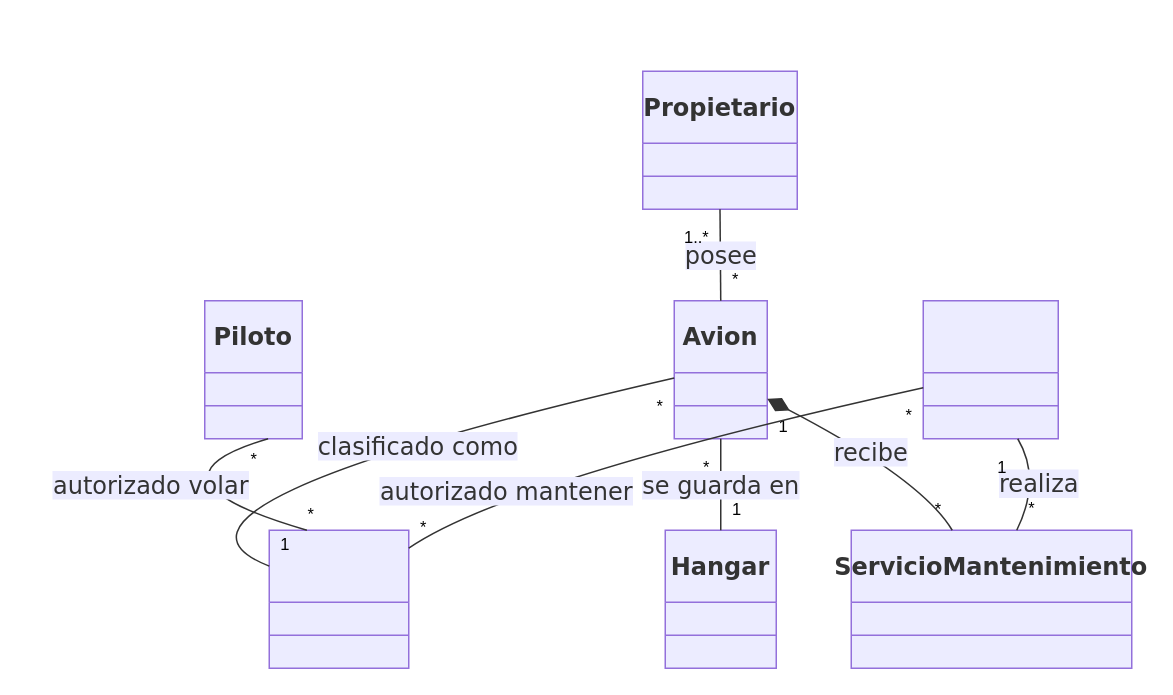
Some shapes in this 1173 by 695 pixel diagram are drawn without their labels. The shapes that lost their labels are listed below. From the top down, each one's centre as x and y in pixels, then its label:
At point 990,369: "Mecanico".
At point 338,598: "TipoAvion".
